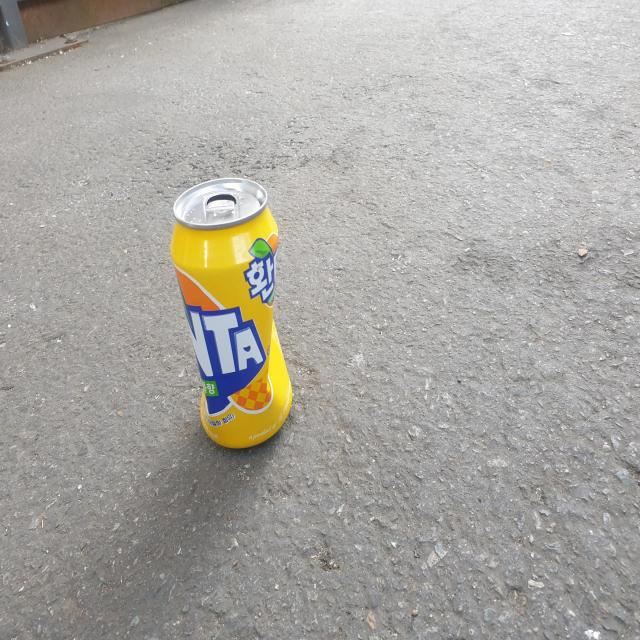can: (170, 177, 292, 448)
